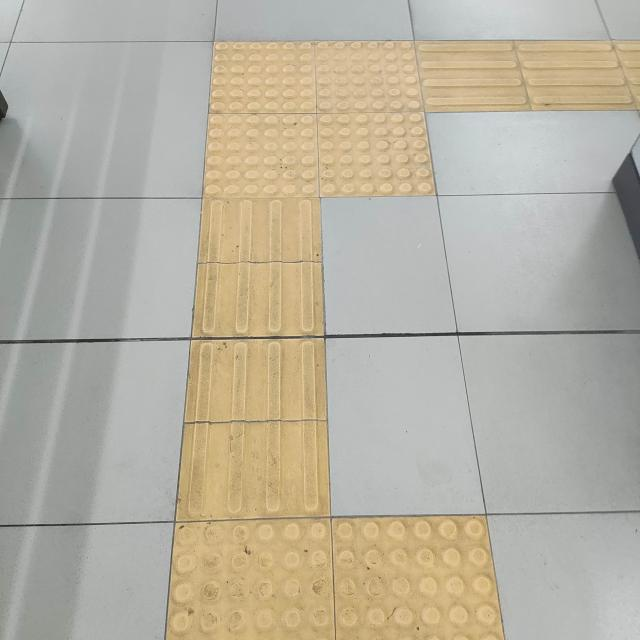kanan: (143, 0, 596, 271)
